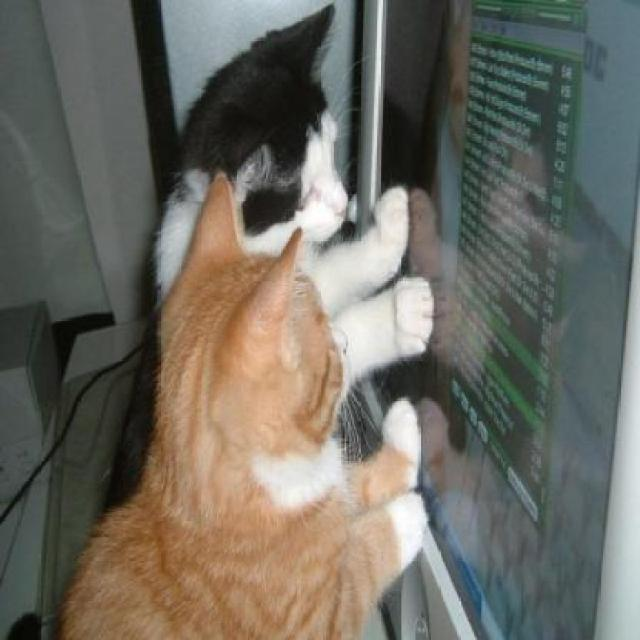cat: (26, 164, 430, 640), (132, 0, 433, 355)
